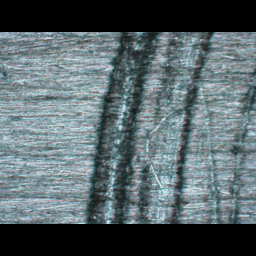d: (81, 32, 249, 223)
